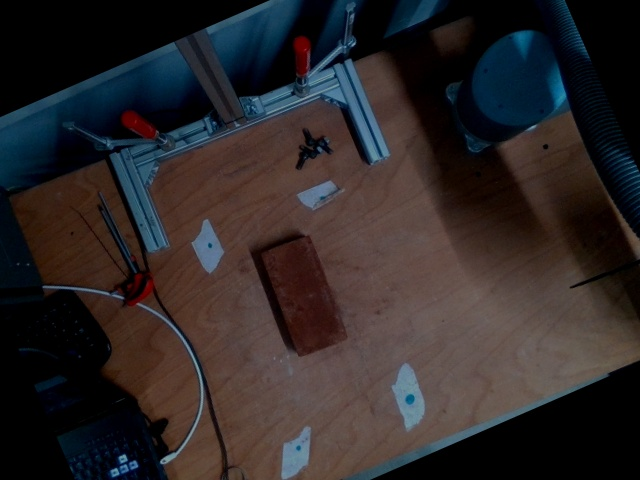brick: (259, 234, 345, 354)
